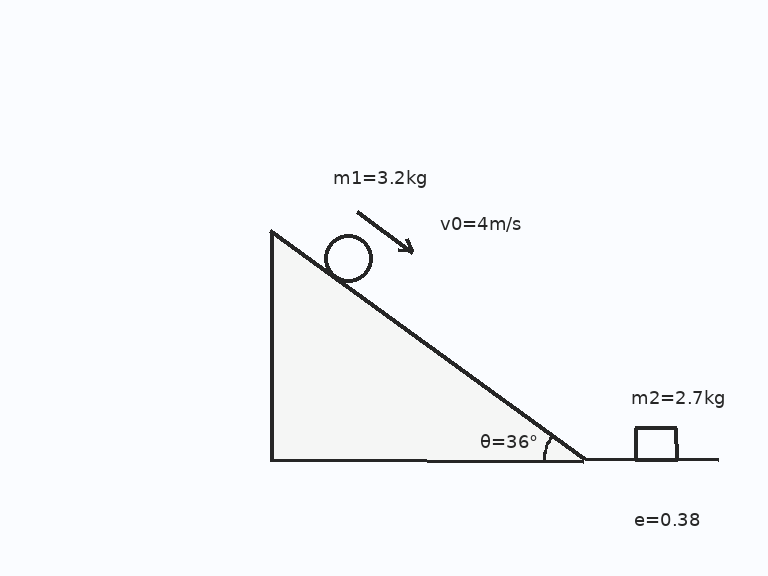ball: (322, 232, 374, 284)
block: (633, 426, 679, 461)
ramp: (269, 230, 586, 461)
